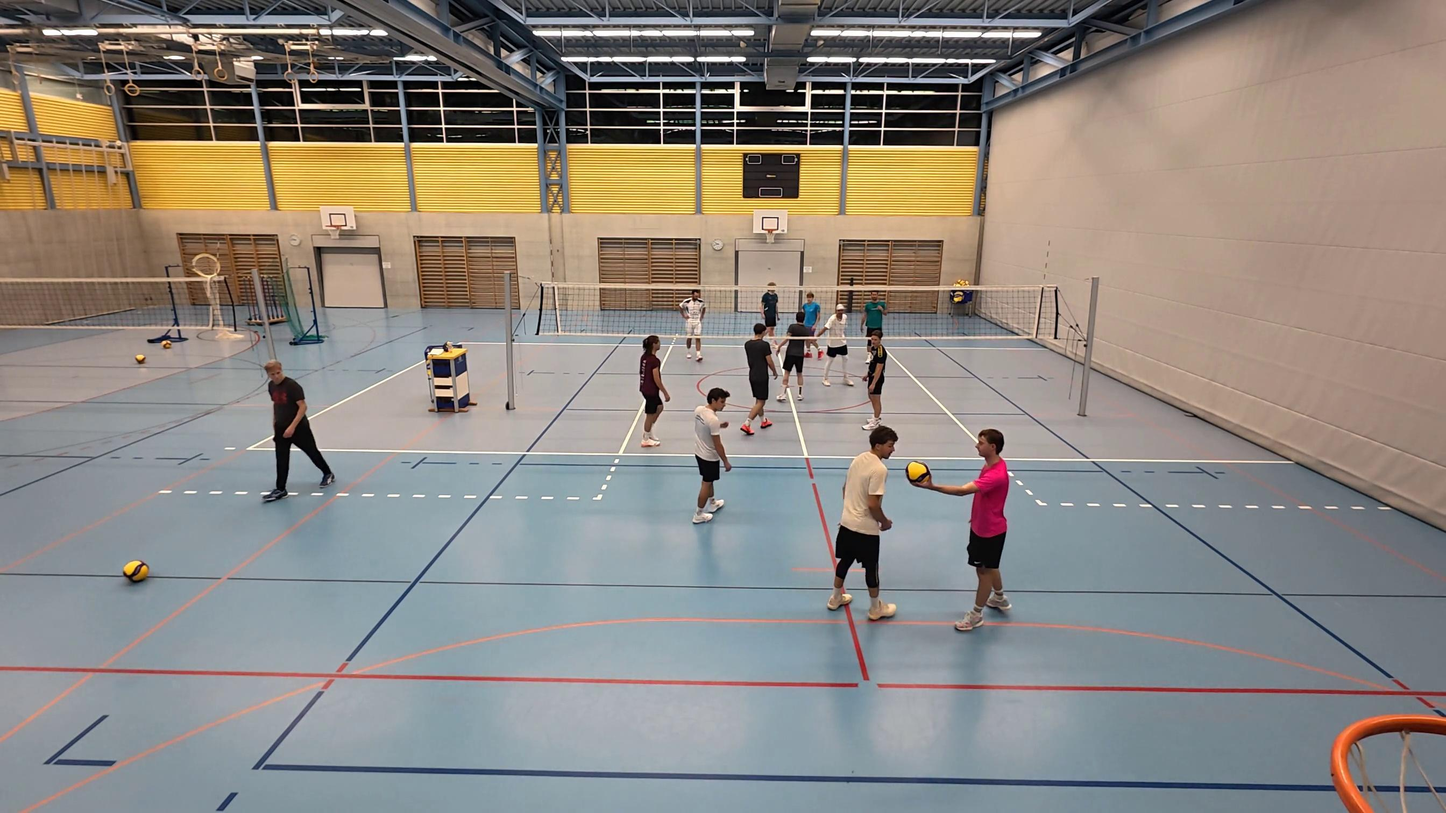Player: (910, 427, 1013, 633), (826, 425, 897, 621), (692, 388, 733, 523), (788, 291, 831, 392), (740, 322, 775, 437), (638, 334, 668, 447), (860, 331, 886, 432), (677, 290, 705, 362), (757, 281, 781, 342), (863, 290, 887, 341)
ball: (123, 559, 150, 583), (906, 461, 930, 482)
